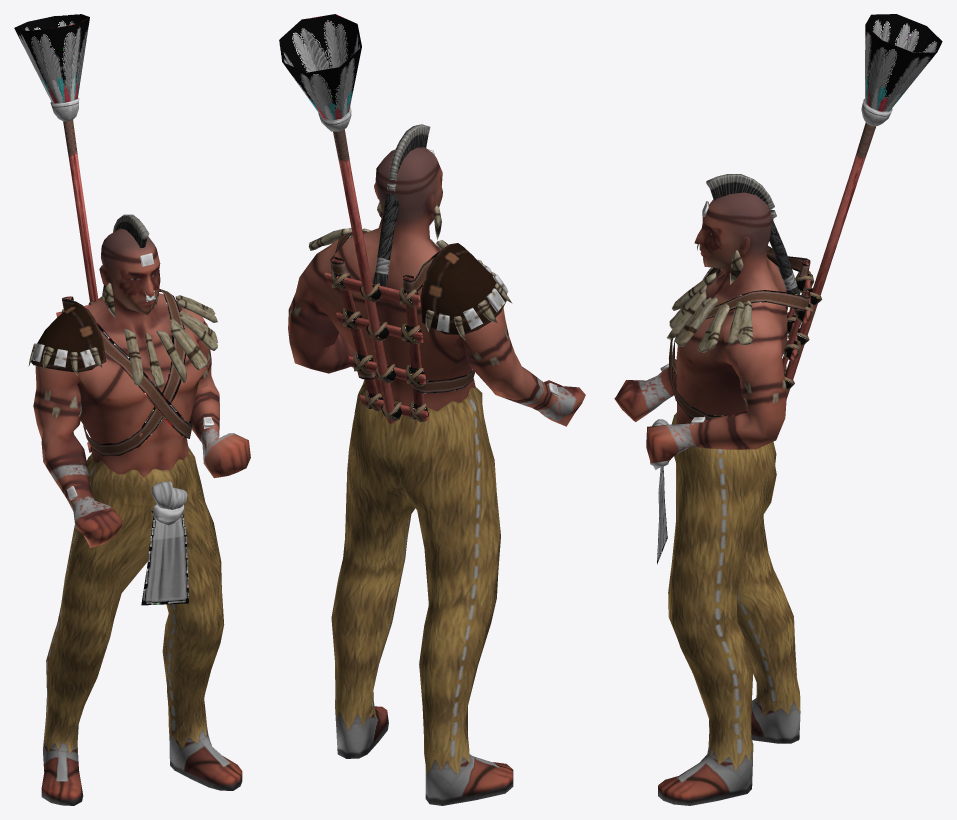
The model's file is body-base.glb.
The picture shows the model from 3 angles, left to right: view 1: azimuth 30°, elevation 25°; view 2: azimuth 150°, elevation 25°; view 3: azimuth 270°, elevation 25°; orthographic projection. The views are drawn at different scales.
Size of the model in its own units: 0.8239 by 2.85 by 1.14.
Materials: 3 (3 with a texture image).
